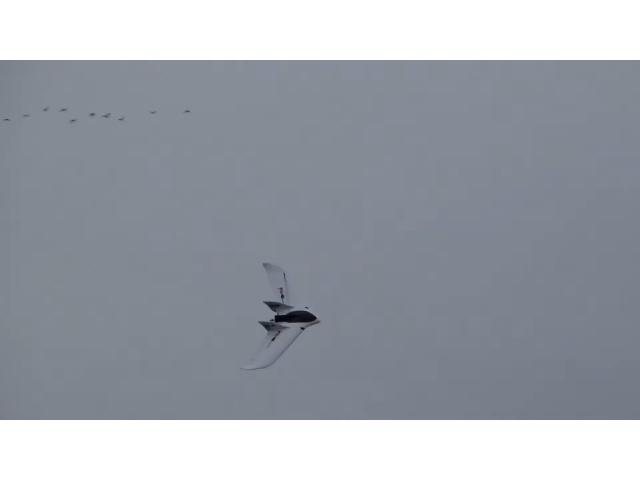Anti-Drone: (241, 262, 321, 368)
